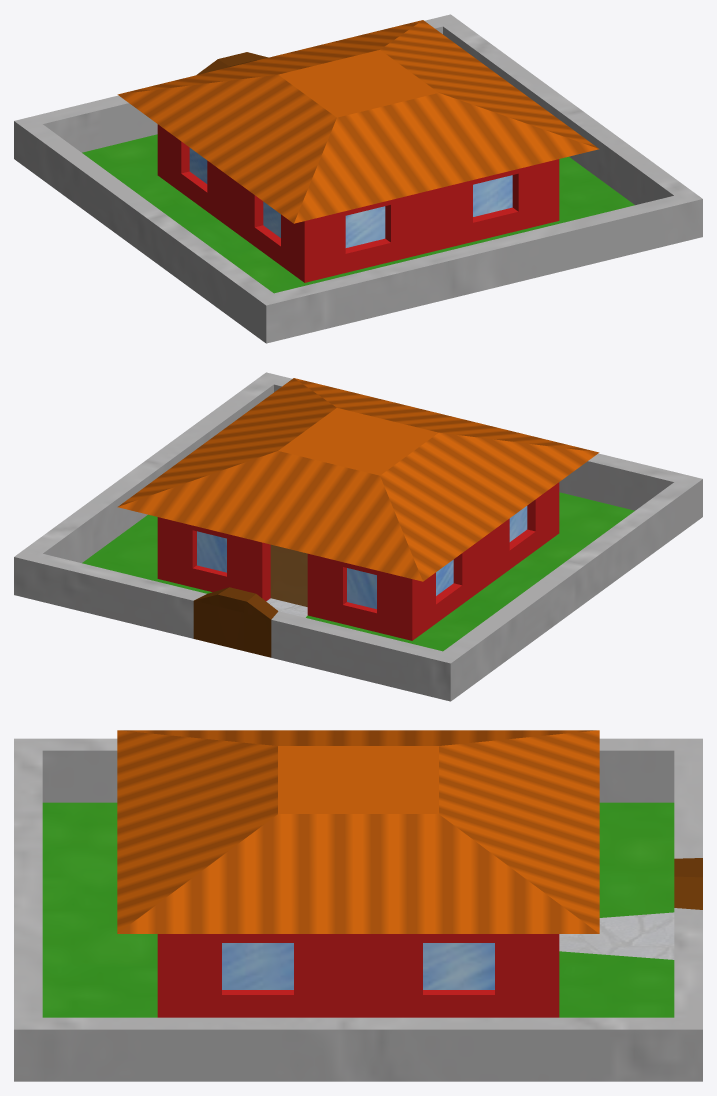
Rendered from Predio3.fbx.
3 renders of one model, top to bottom at view 1: azimuth 30°, elevation 25°; view 2: azimuth 150°, elevation 25°; view 3: azimuth 270°, elevation 25°, orthographic. The views are drawn at different scales.
Parts seen in each view (by area): view 1: Casa1; view 2: Casa1; view 3: Casa1.
Boxes of the visible parts, box(x1,y1,x2,y2) form: Casa1: box(14, 14, 702, 343); Casa1: box(14, 372, 702, 701); Casa1: box(14, 730, 702, 1081).
Bounding box in the file's own units: 1200 × 1200 × 300.
Materials: 1 (1 with a texture image).
